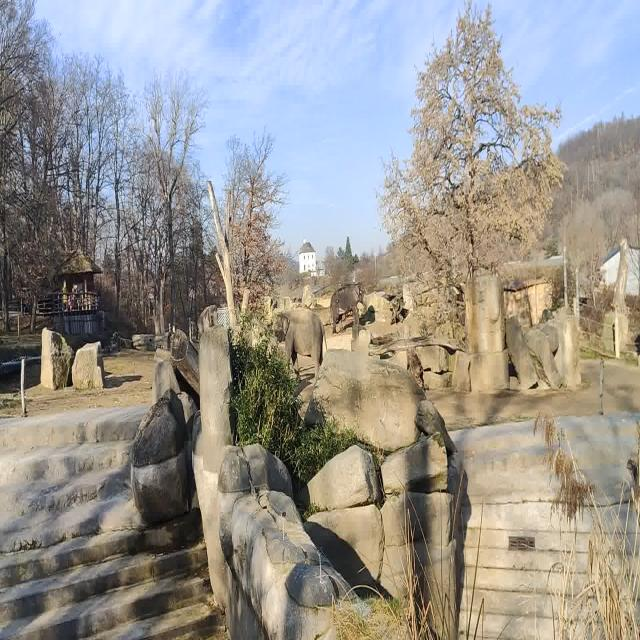elephant: (275, 307, 327, 380), (330, 281, 368, 334), (197, 304, 219, 336)
